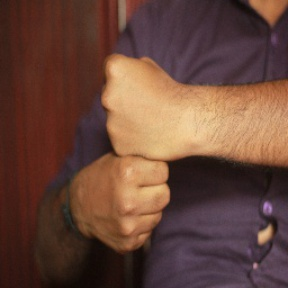G: (82, 51, 190, 259)
